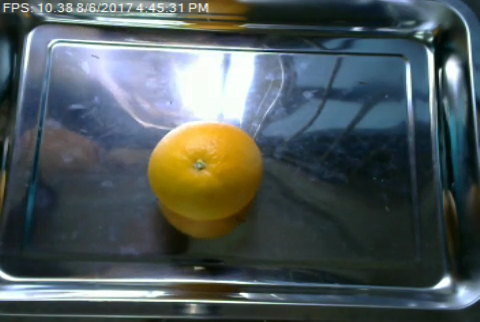Orange: (145, 119, 262, 219)
